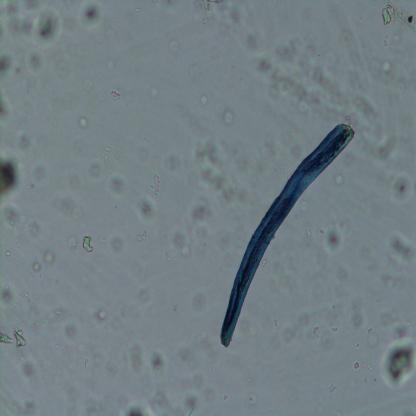Background material: (245, 26, 393, 150), (190, 130, 249, 249), (262, 288, 348, 350), (0, 3, 32, 72), (143, 378, 199, 416), (379, 337, 416, 391), (43, 191, 82, 226), (0, 207, 41, 240), (32, 6, 62, 50), (44, 308, 84, 340), (0, 152, 25, 202), (386, 231, 416, 271), (351, 298, 374, 350), (381, 0, 416, 34), (184, 278, 214, 314), (43, 43, 69, 82), (374, 308, 410, 336), (88, 152, 114, 190), (0, 391, 39, 416), (126, 332, 146, 377), (157, 148, 186, 177), (392, 170, 415, 206), (221, 0, 244, 35), (21, 355, 45, 388), (102, 229, 129, 258), (28, 247, 57, 273), (79, 1, 104, 30), (322, 224, 345, 254), (198, 0, 225, 25), (12, 124, 35, 152), (168, 233, 193, 258), (136, 196, 158, 223), (148, 350, 168, 376), (0, 90, 14, 127), (120, 401, 152, 416), (89, 309, 110, 330), (0, 286, 16, 311), (164, 33, 180, 58), (14, 329, 28, 349), (148, 173, 161, 194), (116, 180, 132, 196), (331, 169, 346, 186), (148, 82, 162, 100), (82, 234, 94, 254), (222, 110, 236, 127), (198, 90, 212, 106), (0, 331, 15, 345), (78, 115, 92, 129), (112, 88, 121, 109), (348, 361, 362, 372), (328, 380, 339, 394), (249, 390, 258, 406), (130, 4, 144, 13)
Cotton: (220, 123, 355, 348)
